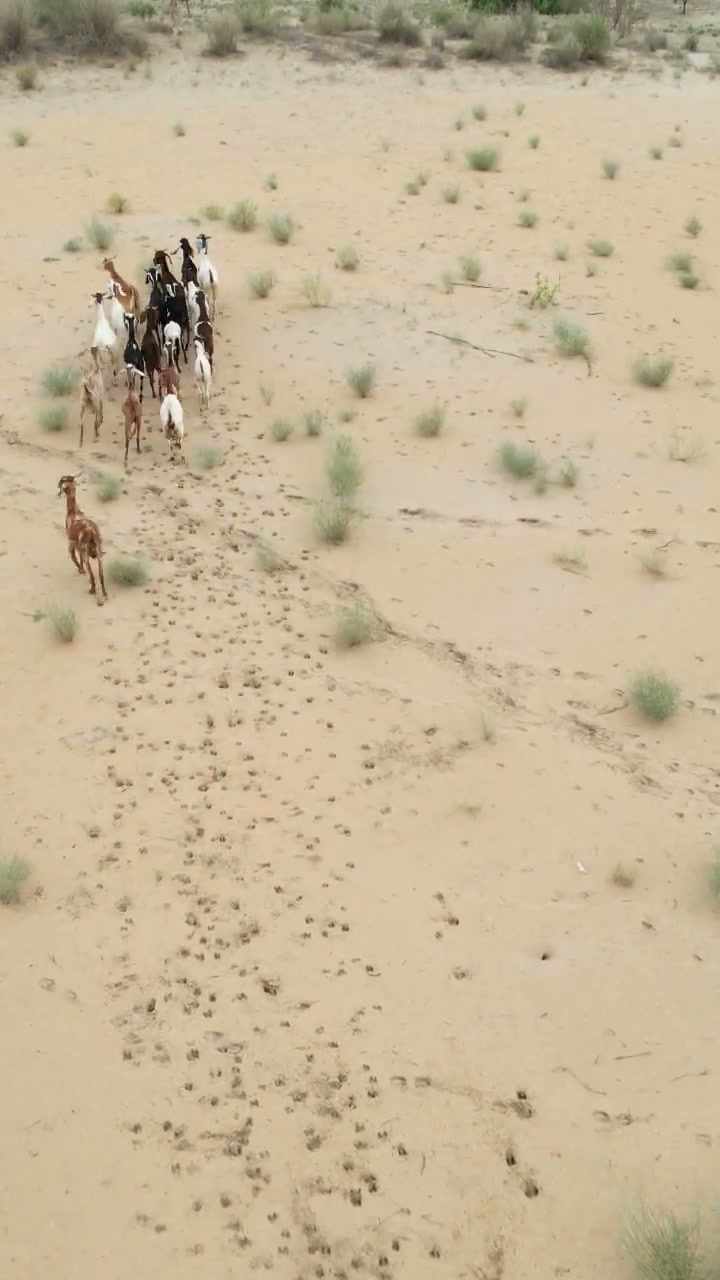animal_foot_print: (88, 449, 424, 1234)
